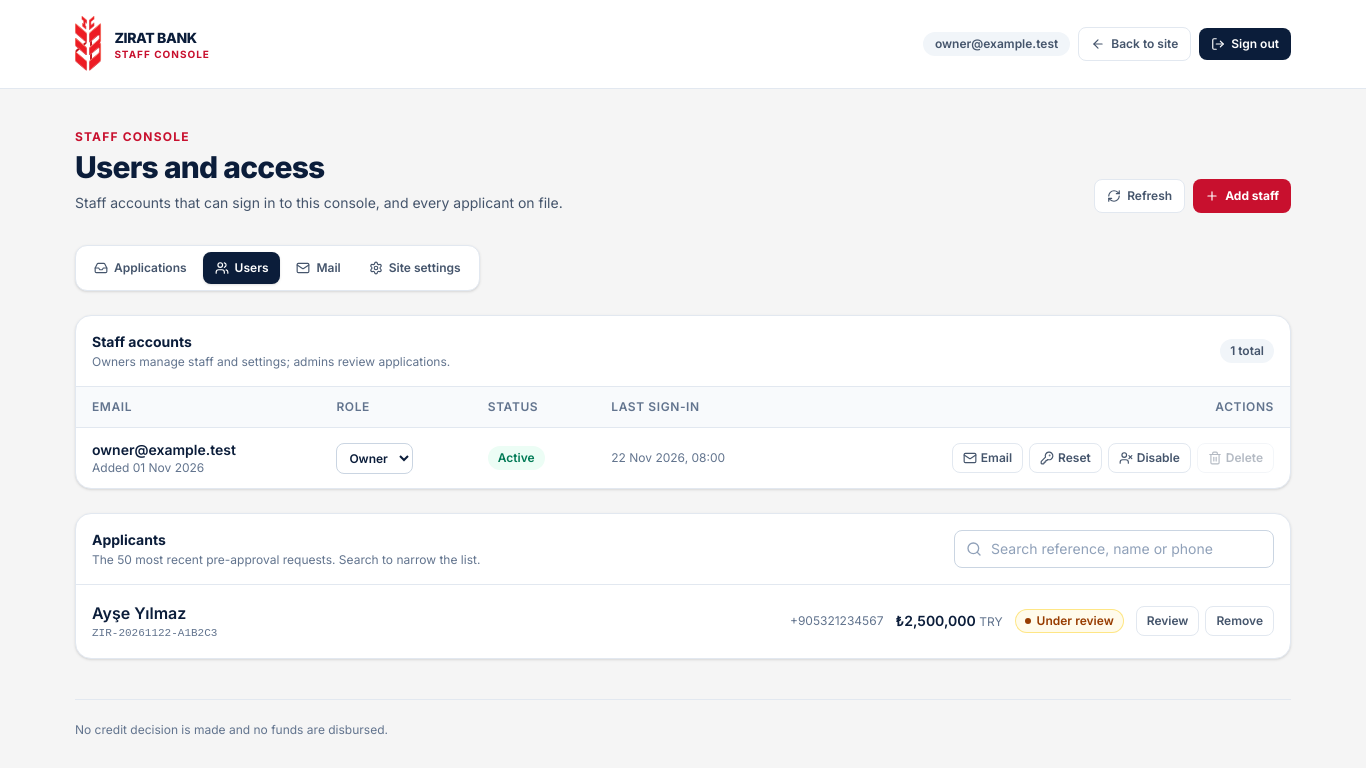
admin users and settings › changes a staff sign-in email
Click the button "Email".
click(987, 458)  # box [952,443,1023,473]
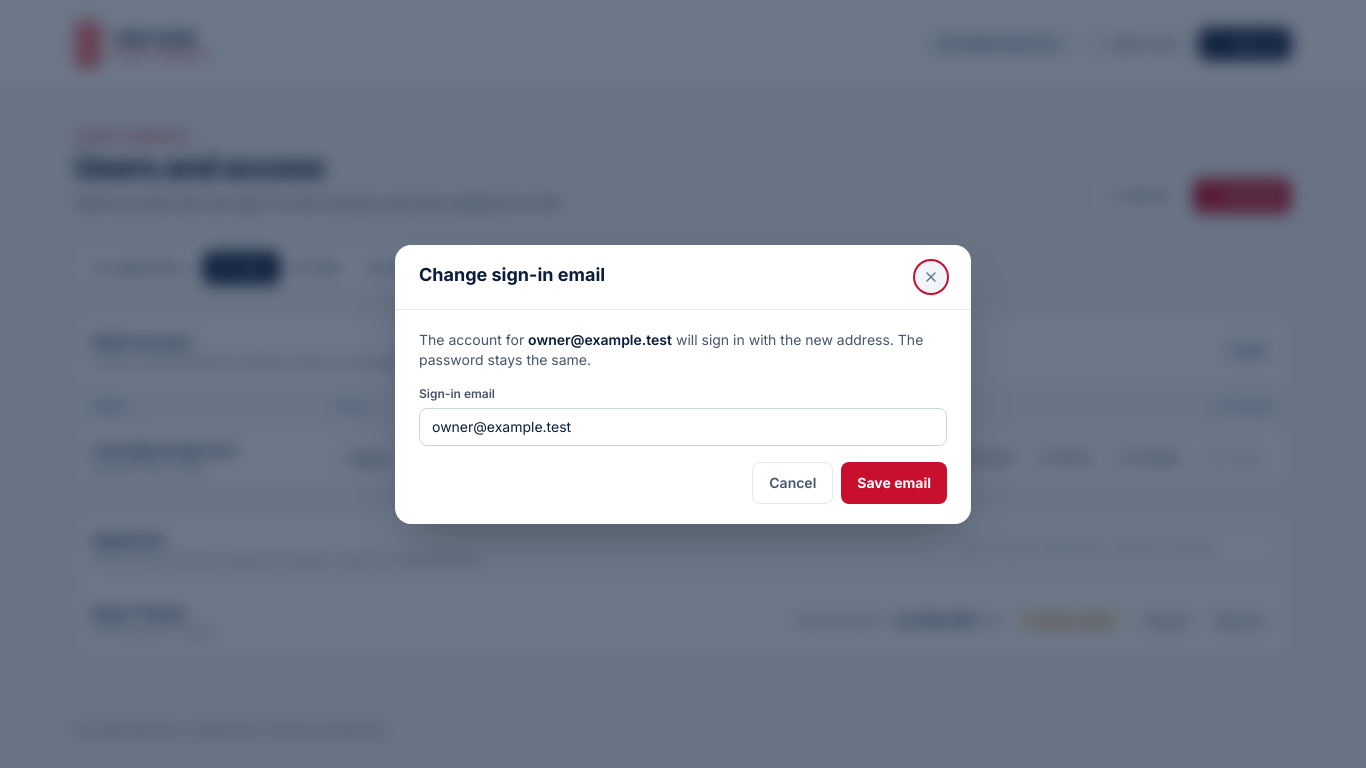
Now the field labelled "Sign-in email" holds "owner@example.test"
Replace the text in the field labelled "Sign-in email" with "Desk@ziratbank.com" at (683, 426), box [419,408,947,446]
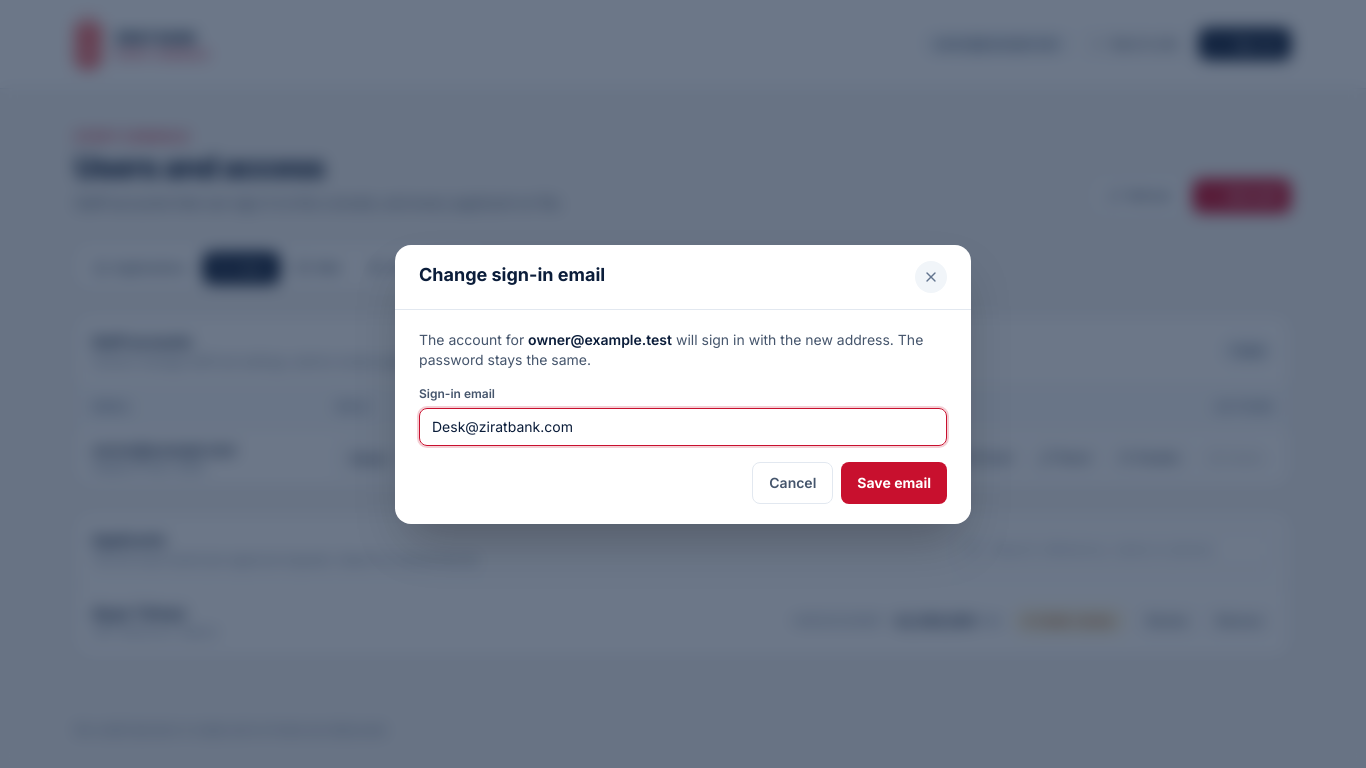
Click the button "Save email".
click(894, 482)  # box [841,462,947,504]
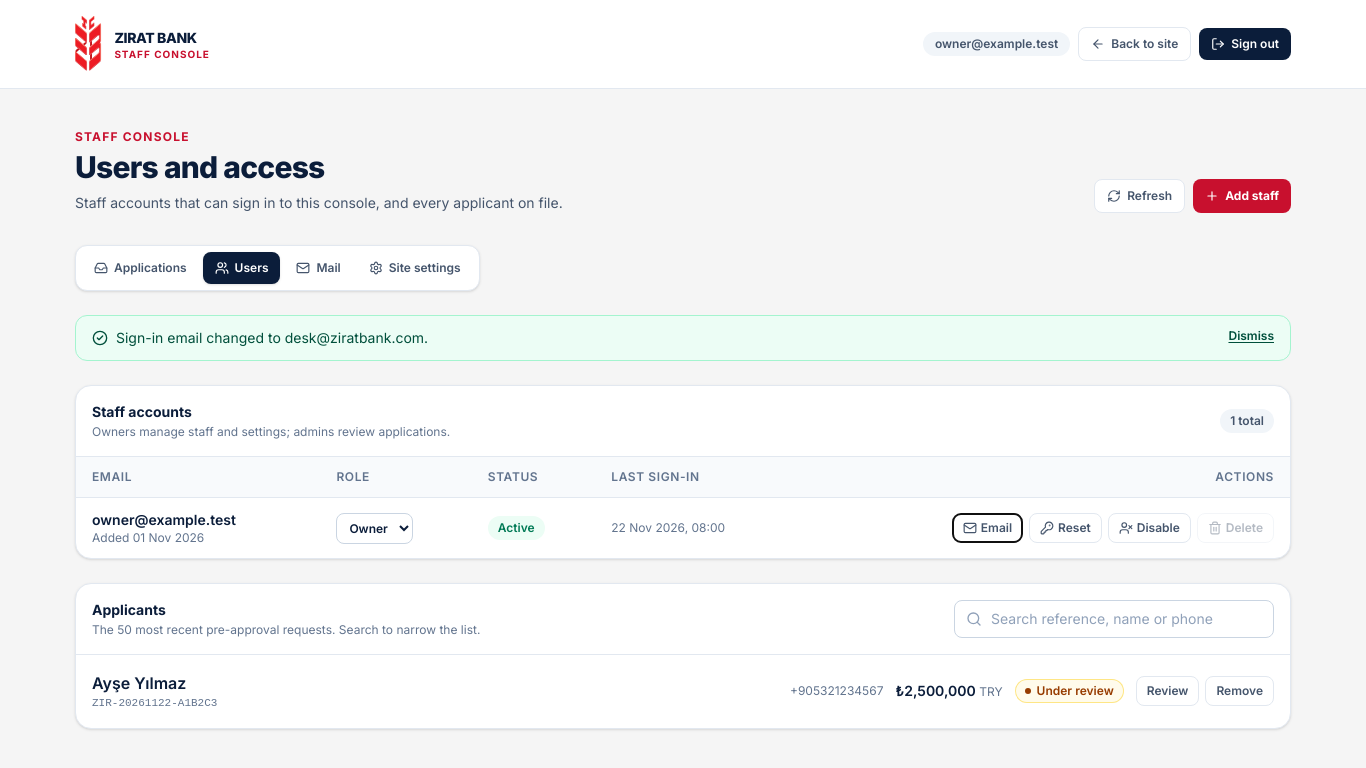
Now the text "Sign-in email changed to desk@ziratbank.com." is shown, box [92,328,428,348]
